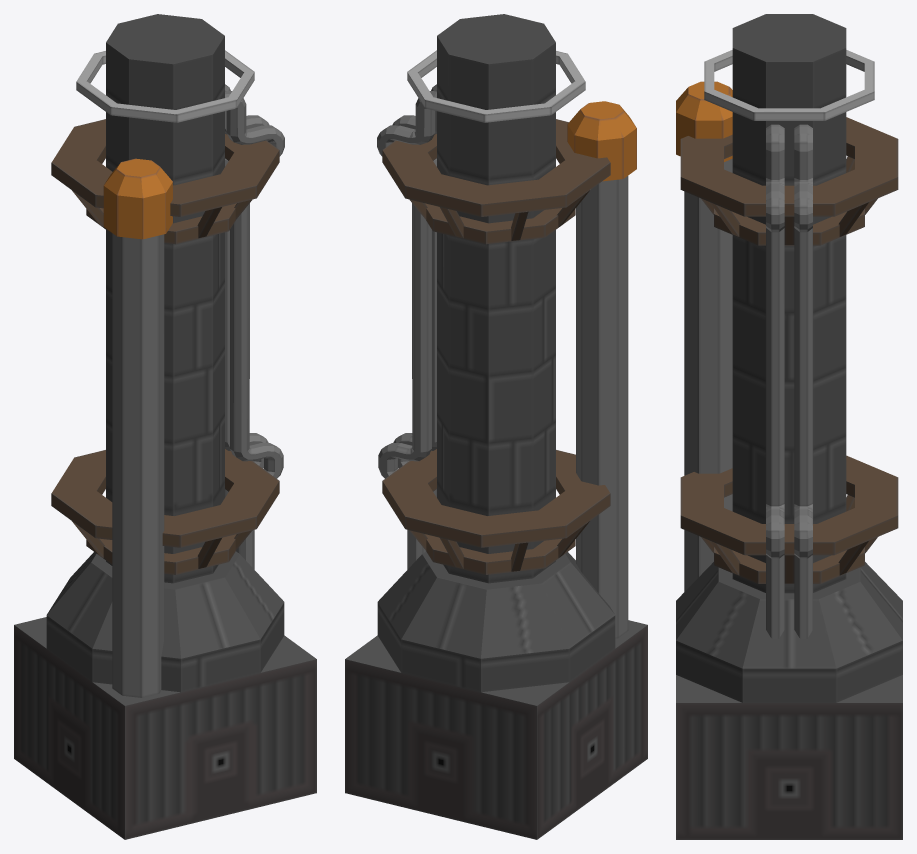
Rendered from flare_stack.obj.
3 renders of one model, left to right at view 1: azimuth 30°, elevation 25°; view 2: azimuth 150°, elevation 25°; view 3: azimuth 270°, elevation 25°, orthographic. The views are drawn at different scales.
Visible parts, largest first — view 1: mesh; view 2: mesh; view 3: mesh.
Part boxes in pixels (x1,y1,x2,y2): mesh: (14,14,316,839); mesh: (345,14,647,839); mesh: (676,14,902,839).
Size of the model in its own units: 3.23 by 11 by 3.
